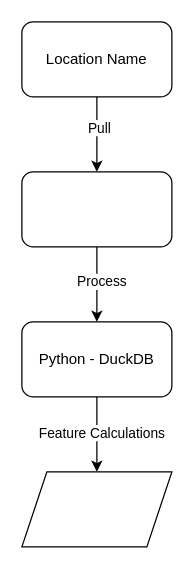
Image size: 194x569. Some labels were removed from this diagram. Here are the shapes that lost their labels. From the top down, the centre of each, then its label:
(96,209): Overture API
(96,509): Data
